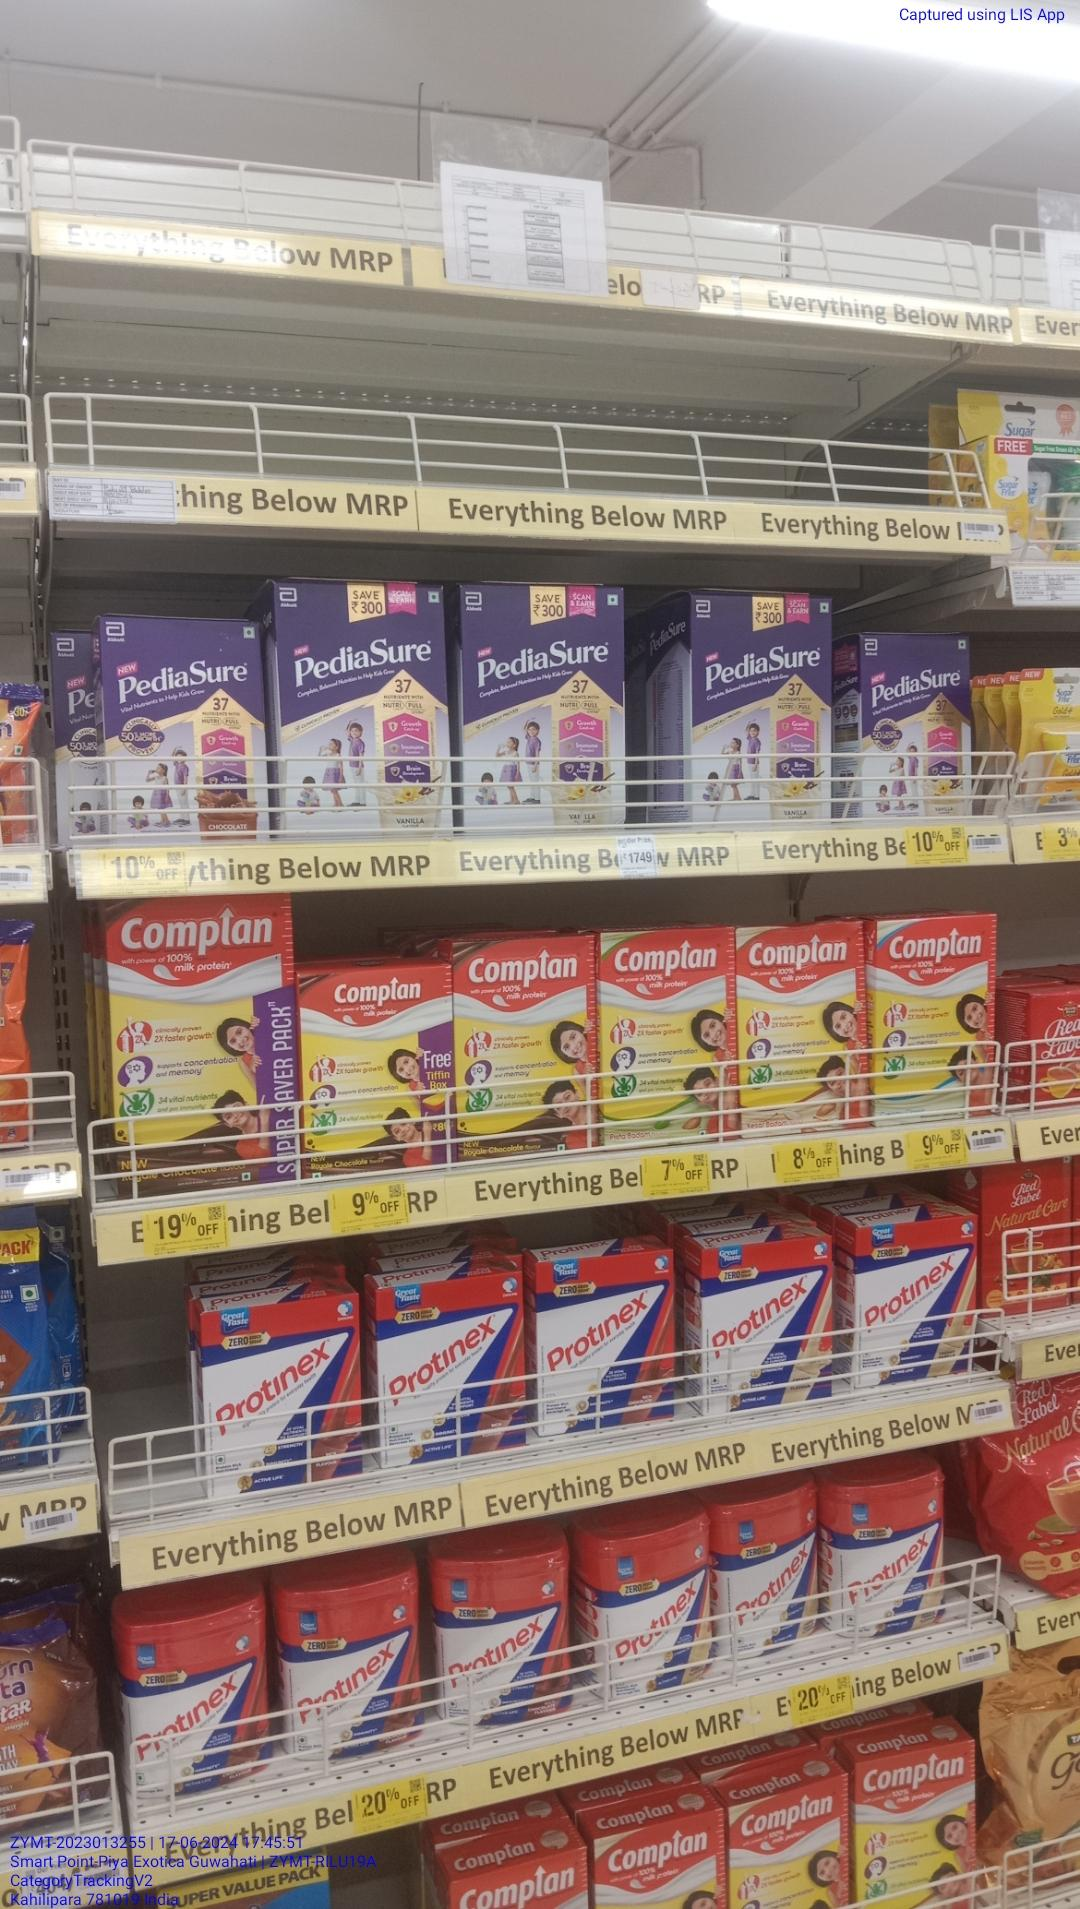COMPLAN_CHOCOLATE_1_KG_PACK: (107, 894, 288, 1187)
COMPLAN_CHOCOLATE_500_GMS_PACK: (294, 966, 453, 1172), (459, 941, 598, 1162)
COMPLAN_CREAMY_CLASSIC_500_G_PACK: (868, 915, 1000, 1125)
COMPLAN_KESAR_BADAM_500_GMS_PACK: (743, 923, 866, 1133)
COMPLAN_PISTA_BADAM_500_GMS_PACK: (603, 928, 743, 1143)
PEDIASURE_CHOCOLATE_500_G_PACK: (104, 608, 269, 831)
PEDIASURE_VANILLA_500_G_PACK: (279, 578, 455, 836), (460, 583, 627, 829), (692, 586, 832, 825), (865, 629, 973, 817)
PROTINEX_CHOCOLATE_400_G_JAR: (127, 1597, 271, 1792), (436, 1531, 579, 1722), (280, 1565, 429, 1748)
PROTINEX_VANILLA_400_G_JAR: (591, 1506, 713, 1698), (824, 1463, 953, 1635), (718, 1476, 813, 1642)
